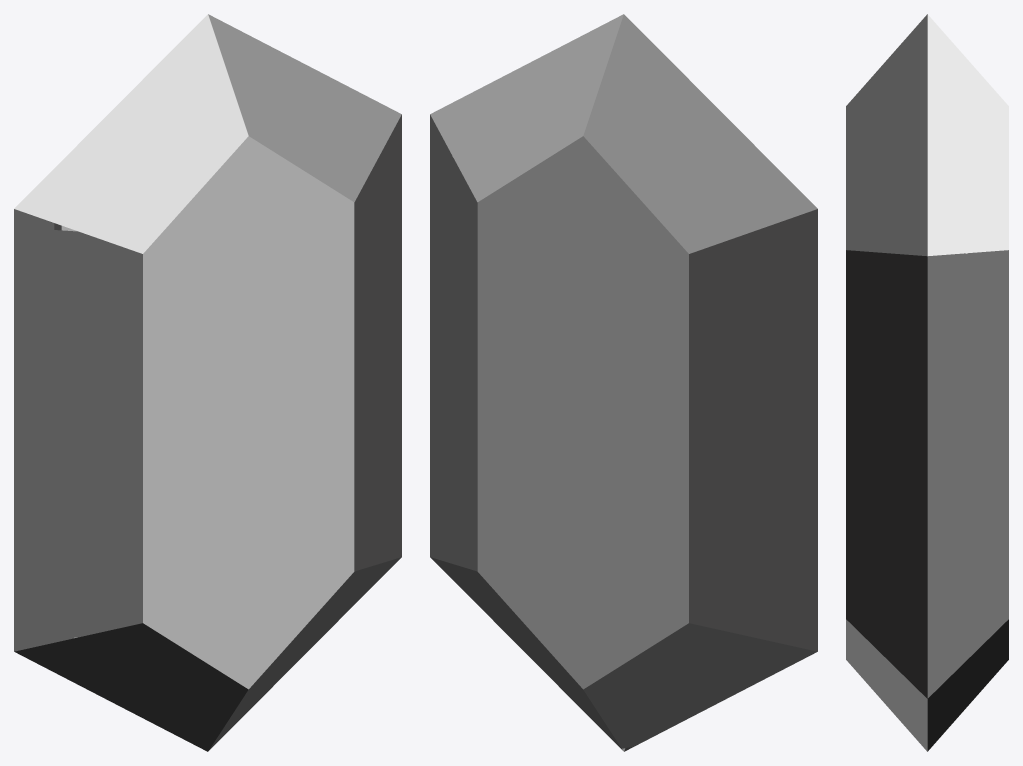
File: gem.fbx
3 renders of one model, left to right at view 1: azimuth 30°, elevation 25°; view 2: azimuth 150°, elevation 25°; view 3: azimuth 270°, elevation 25°, orthographic.
Parts seen in each view (by area): view 1: cuboid; view 2: cuboid; view 3: cuboid.
Part boxes in pixels (x1,y1,x2,y2): cuboid: (14,14,401,751); cuboid: (430,14,817,751); cuboid: (846,14,1008,751).
Bounding box in the file's own units: 138 × 250 × 50.
1 material, 1 textured.
